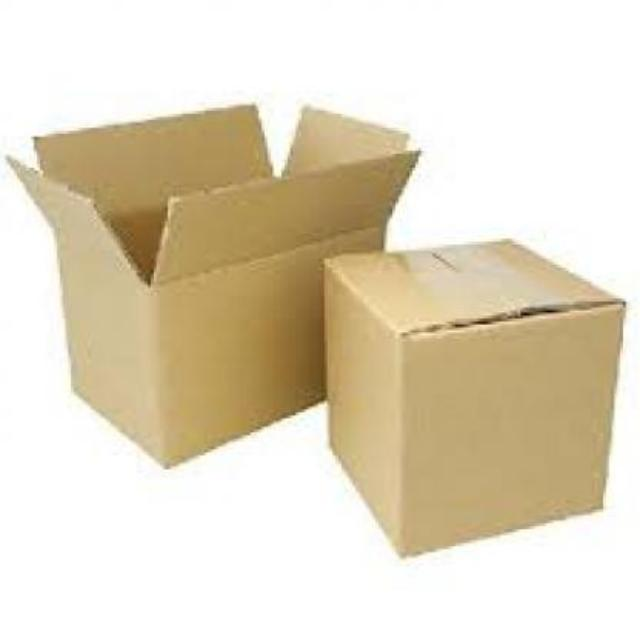cardboard_box: (18, 100, 398, 467), (320, 252, 624, 568)
